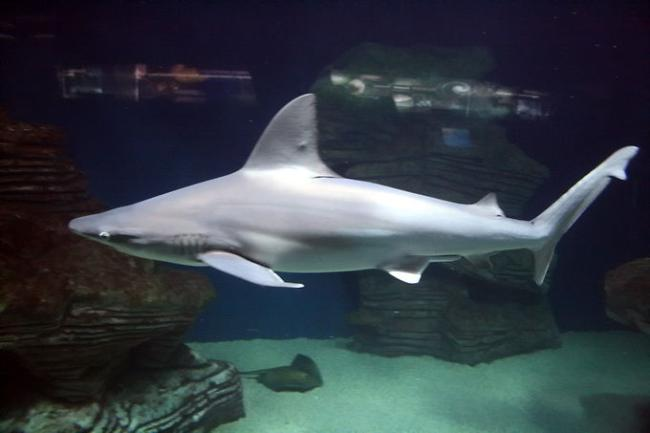fish: (66, 92, 639, 290)
